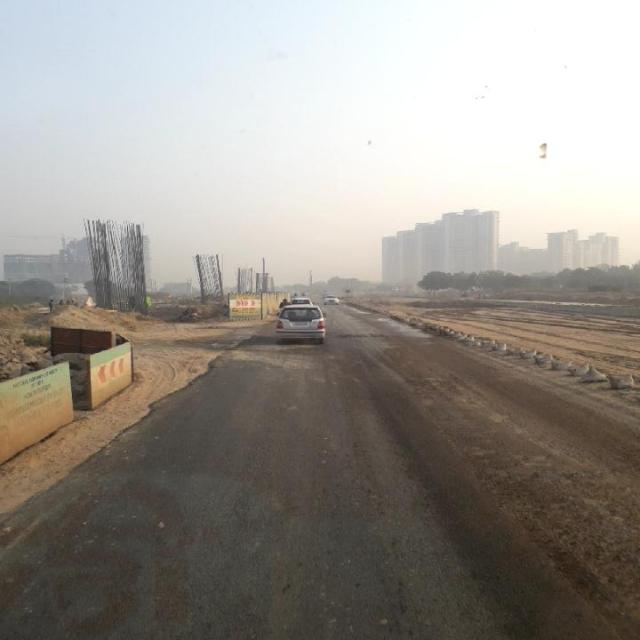Surface Erosion: (106, 259, 640, 640)
